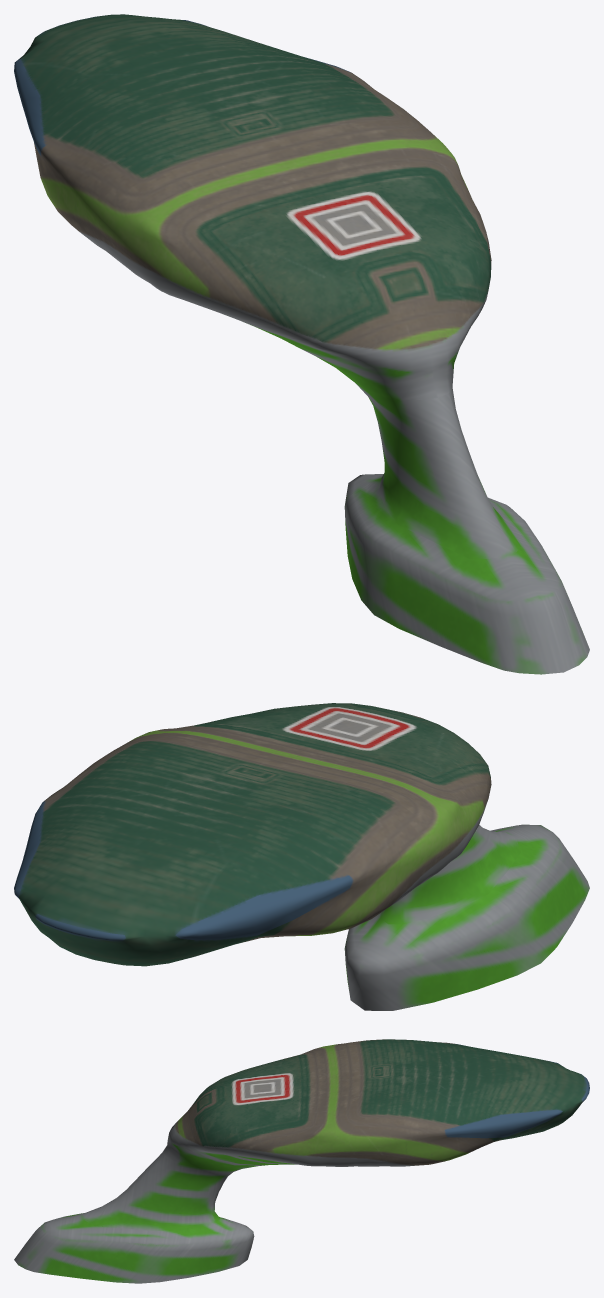
File: spaceship_livingquarters.obj
3 renders of one model, top to bottom at view 1: azimuth 30°, elevation 25°; view 2: azimuth 150°, elevation 25°; view 3: azimuth 270°, elevation 25°, orthographic. The views are drawn at different scales.
Visible parts, largest first — view 1: quarter_Mesh.004; view 2: quarter_Mesh.004; view 3: quarter_Mesh.004.
Boxes of the visible parts, x1,y1,x2,y2 form: quarter_Mesh.004: (14, 14, 589, 674); quarter_Mesh.004: (14, 703, 589, 1010); quarter_Mesh.004: (14, 1039, 589, 1283).
Bounding box in the file's own units: 7.05 × 6.63 × 18.16.
1 material, 1 textured.
